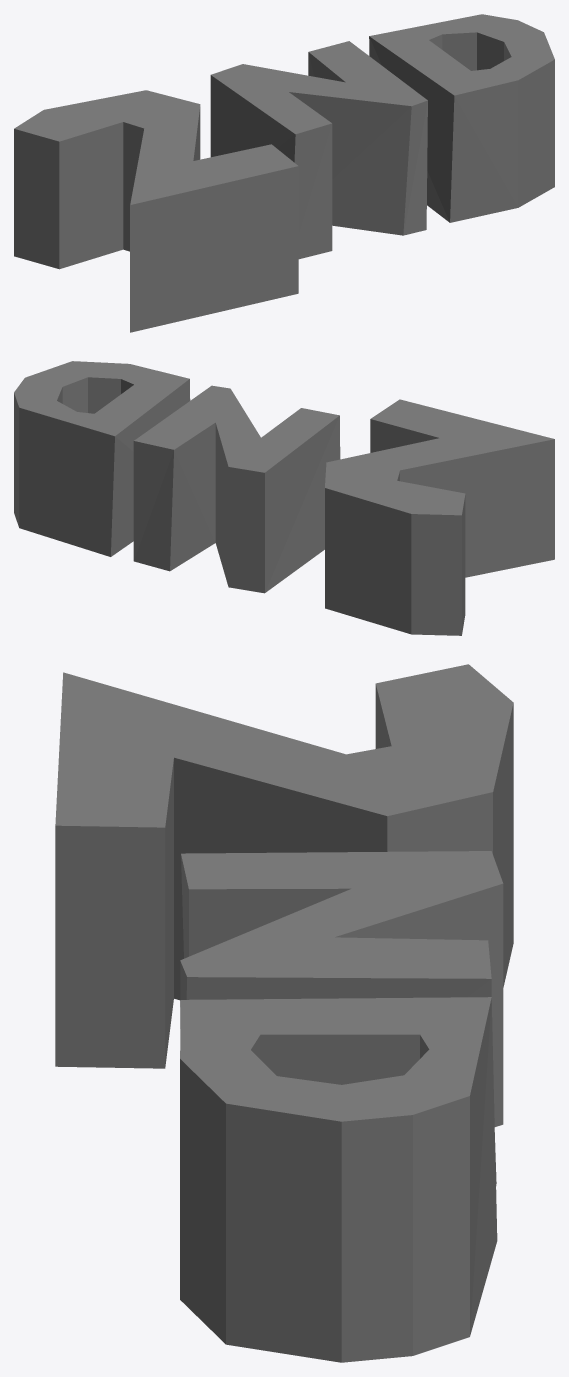
3 renders of one model, top to bottom at view 1: azimuth 30°, elevation 25°; view 2: azimuth 150°, elevation 25°; view 3: azimuth 270°, elevation 25°, orthographic. The views are drawn at different scales.
Parts seen in each view (by area): view 1: Text_2nd; view 2: Text_2nd; view 3: Text_2nd.
Part boxes in pixels (x1,y1,x2,y2): Text_2nd: [14, 14, 554, 332]; Text_2nd: [14, 361, 554, 635]; Text_2nd: [55, 664, 513, 1362].
Bounding box in the file's own units: 153 × 37.5 × 64.6.
